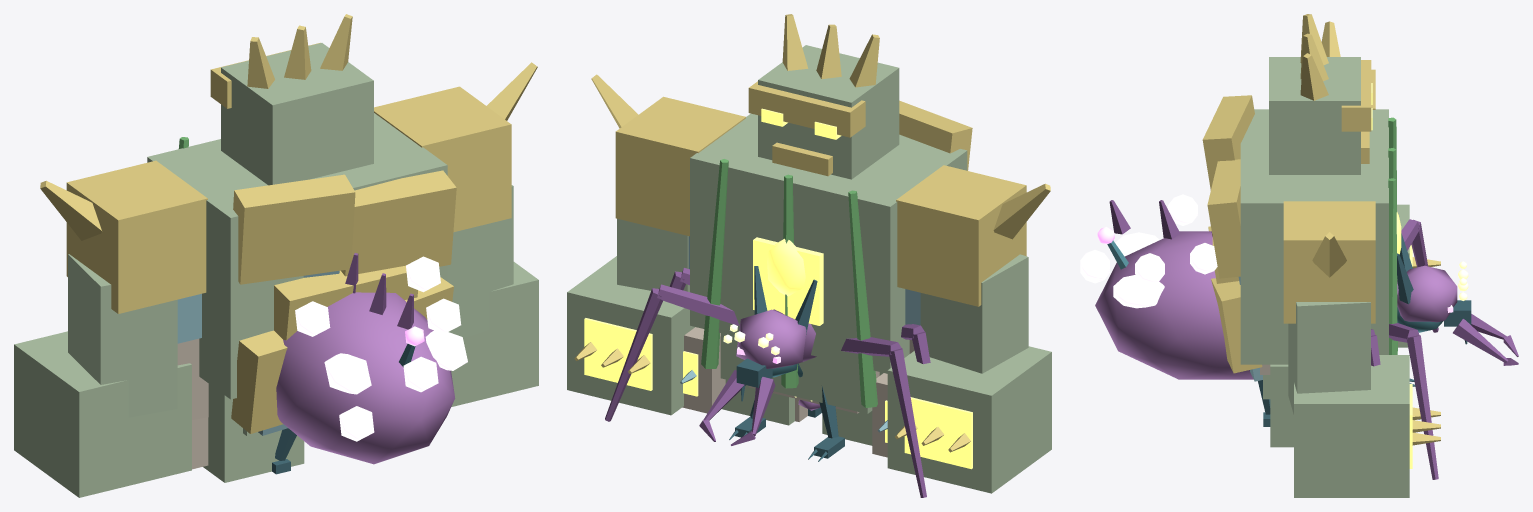
Rendered from monsters.glb.
3 views of the same model, side by side, from view 1: azimuth 30°, elevation 25°; view 2: azimuth 150°, elevation 25°; view 3: azimuth 270°, elevation 25° (orthographic). The views are drawn at different scales.
Visible parts, largest first — view 1: Colossus_armL, Colossus_body, Broodmother_body, Colossus_armR, Colossus_head, Colossus_legL, Bulwark_armL, Stalker_legBL; view 2: Colossus_body, Colossus_armL, Colossus_armR, Colossus_head, Broodmother_head, Broodmother_legR0, Broodmother_legL0, Bulwark_armR, Stalker_head, Bulwark_armL, Colossus_legR, Colossus_legL (+2 smaller); view 3: Colossus_armR, Colossus_body, Broodmother_body, Colossus_head, Broodmother_head, Broodmother_legR0, Colossus_legR, Stalker_head, Colossus_armL, Broodmother_legL0, Stalker_tail.
Part boxes in pixels (box(x1,y1,x2,y2)): Colossus_armL: box(14, 160, 207, 497); Colossus_body: box(147, 113, 456, 436); Broodmother_body: box(276, 253, 467, 464); Colossus_armR: box(374, 62, 538, 406); Colossus_head: box(210, 14, 373, 185); Colossus_legL: box(203, 384, 304, 482); Bulwark_armL: box(177, 293, 208, 469); Stalker_legBL: box(272, 428, 296, 474); Colossus_body: box(690, 100, 972, 413); Colossus_armL: box(887, 165, 1051, 493); Colossus_armR: box(567, 74, 745, 415); Colossus_head: box(748, 14, 899, 179); Broodmother_head: box(699, 309, 806, 445); Broodmother_legR0: box(605, 284, 739, 421); Broodmother_legL0: box(841, 337, 926, 497); Bulwark_armR: box(680, 236, 725, 413); Stalker_head: box(736, 266, 817, 401); Bulwark_armL: box(872, 289, 920, 457); Colossus_legR: box(722, 379, 794, 425); Colossus_legL: box(822, 372, 883, 445); Colossus_armR: box(1283, 201, 1440, 497); Colossus_body: box(1202, 95, 1401, 399); Broodmother_body: box(1080, 194, 1398, 379); Colossus_head: box(1269, 14, 1372, 174); Broodmother_head: box(1397, 261, 1518, 365); Broodmother_legR0: box(1389, 323, 1438, 479); Colossus_legR: box(1270, 364, 1293, 447); Stalker_head: box(1397, 233, 1471, 344); Colossus_armL: box(1321, 21, 1440, 347); Broodmother_legL0: box(1401, 219, 1438, 332); Stalker_tail: box(1097, 227, 1128, 269).
Size of the model in its own units: 4.65 by 3.73 by 3.99.
